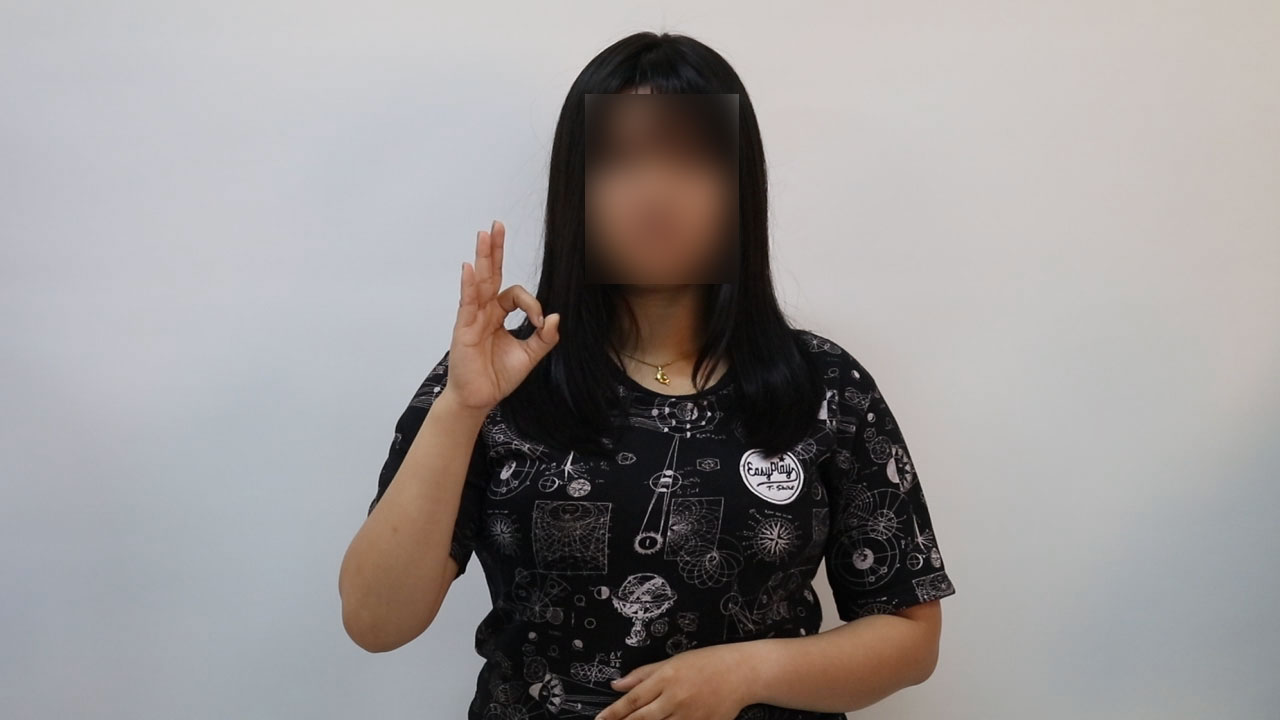for: (420, 208, 565, 421)
